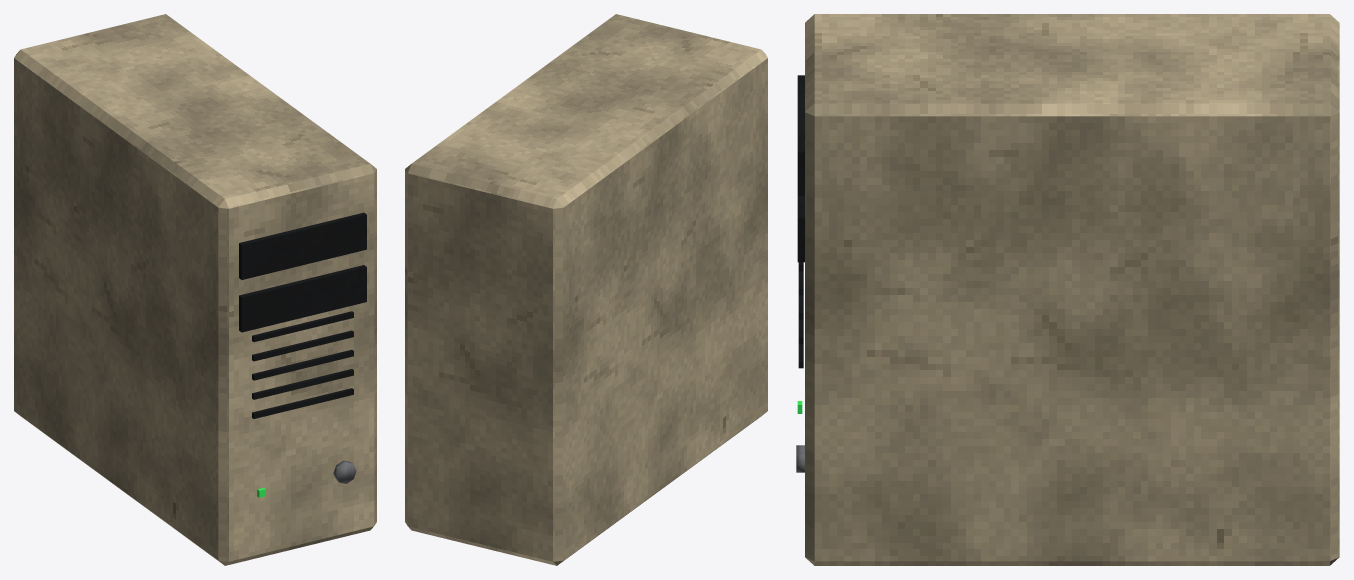
The model's file is Lab_Tower.fbx.
The picture shows the model from 3 angles, left to right: view 1: azimuth 30°, elevation 25°; view 2: azimuth 150°, elevation 25°; view 3: azimuth 270°, elevation 25°; orthographic projection. The views are drawn at different scales.
Parts seen in each view (by area): view 1: Lab_Tower; view 2: Lab_Tower; view 3: Lab_Tower.
Part boxes in pixels (x1,y1,x2,y2): Lab_Tower: [14, 14, 376, 565]; Lab_Tower: [405, 14, 767, 565]; Lab_Tower: [796, 14, 1339, 565].
Size of the model in its own units: 0.19 by 0.42 by 0.447.
